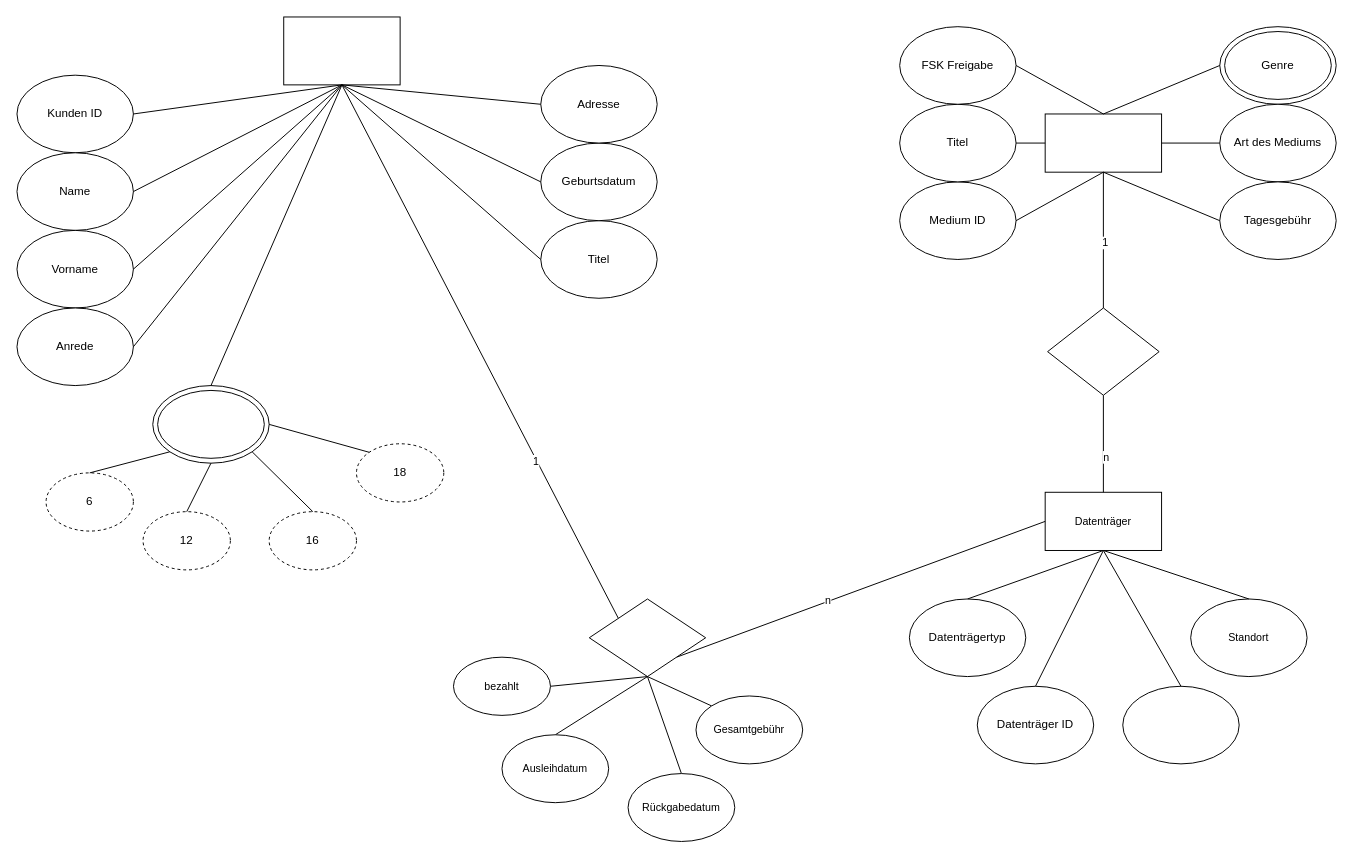
Some shapes in this 1353 by 858 pixel diagram are drawn without their labels. The shapes that lost their labels are listed below. From the top down, each one's centre as x and y in pixels, then its label:
At point (341, 50): "Kunde".
At point (1103, 142): "Medium".
At point (1103, 351): "besteht aus".
At point (210, 423): "älter als...".
At point (647, 637): "leiht aus".
At point (1180, 724): "Anzahl".
